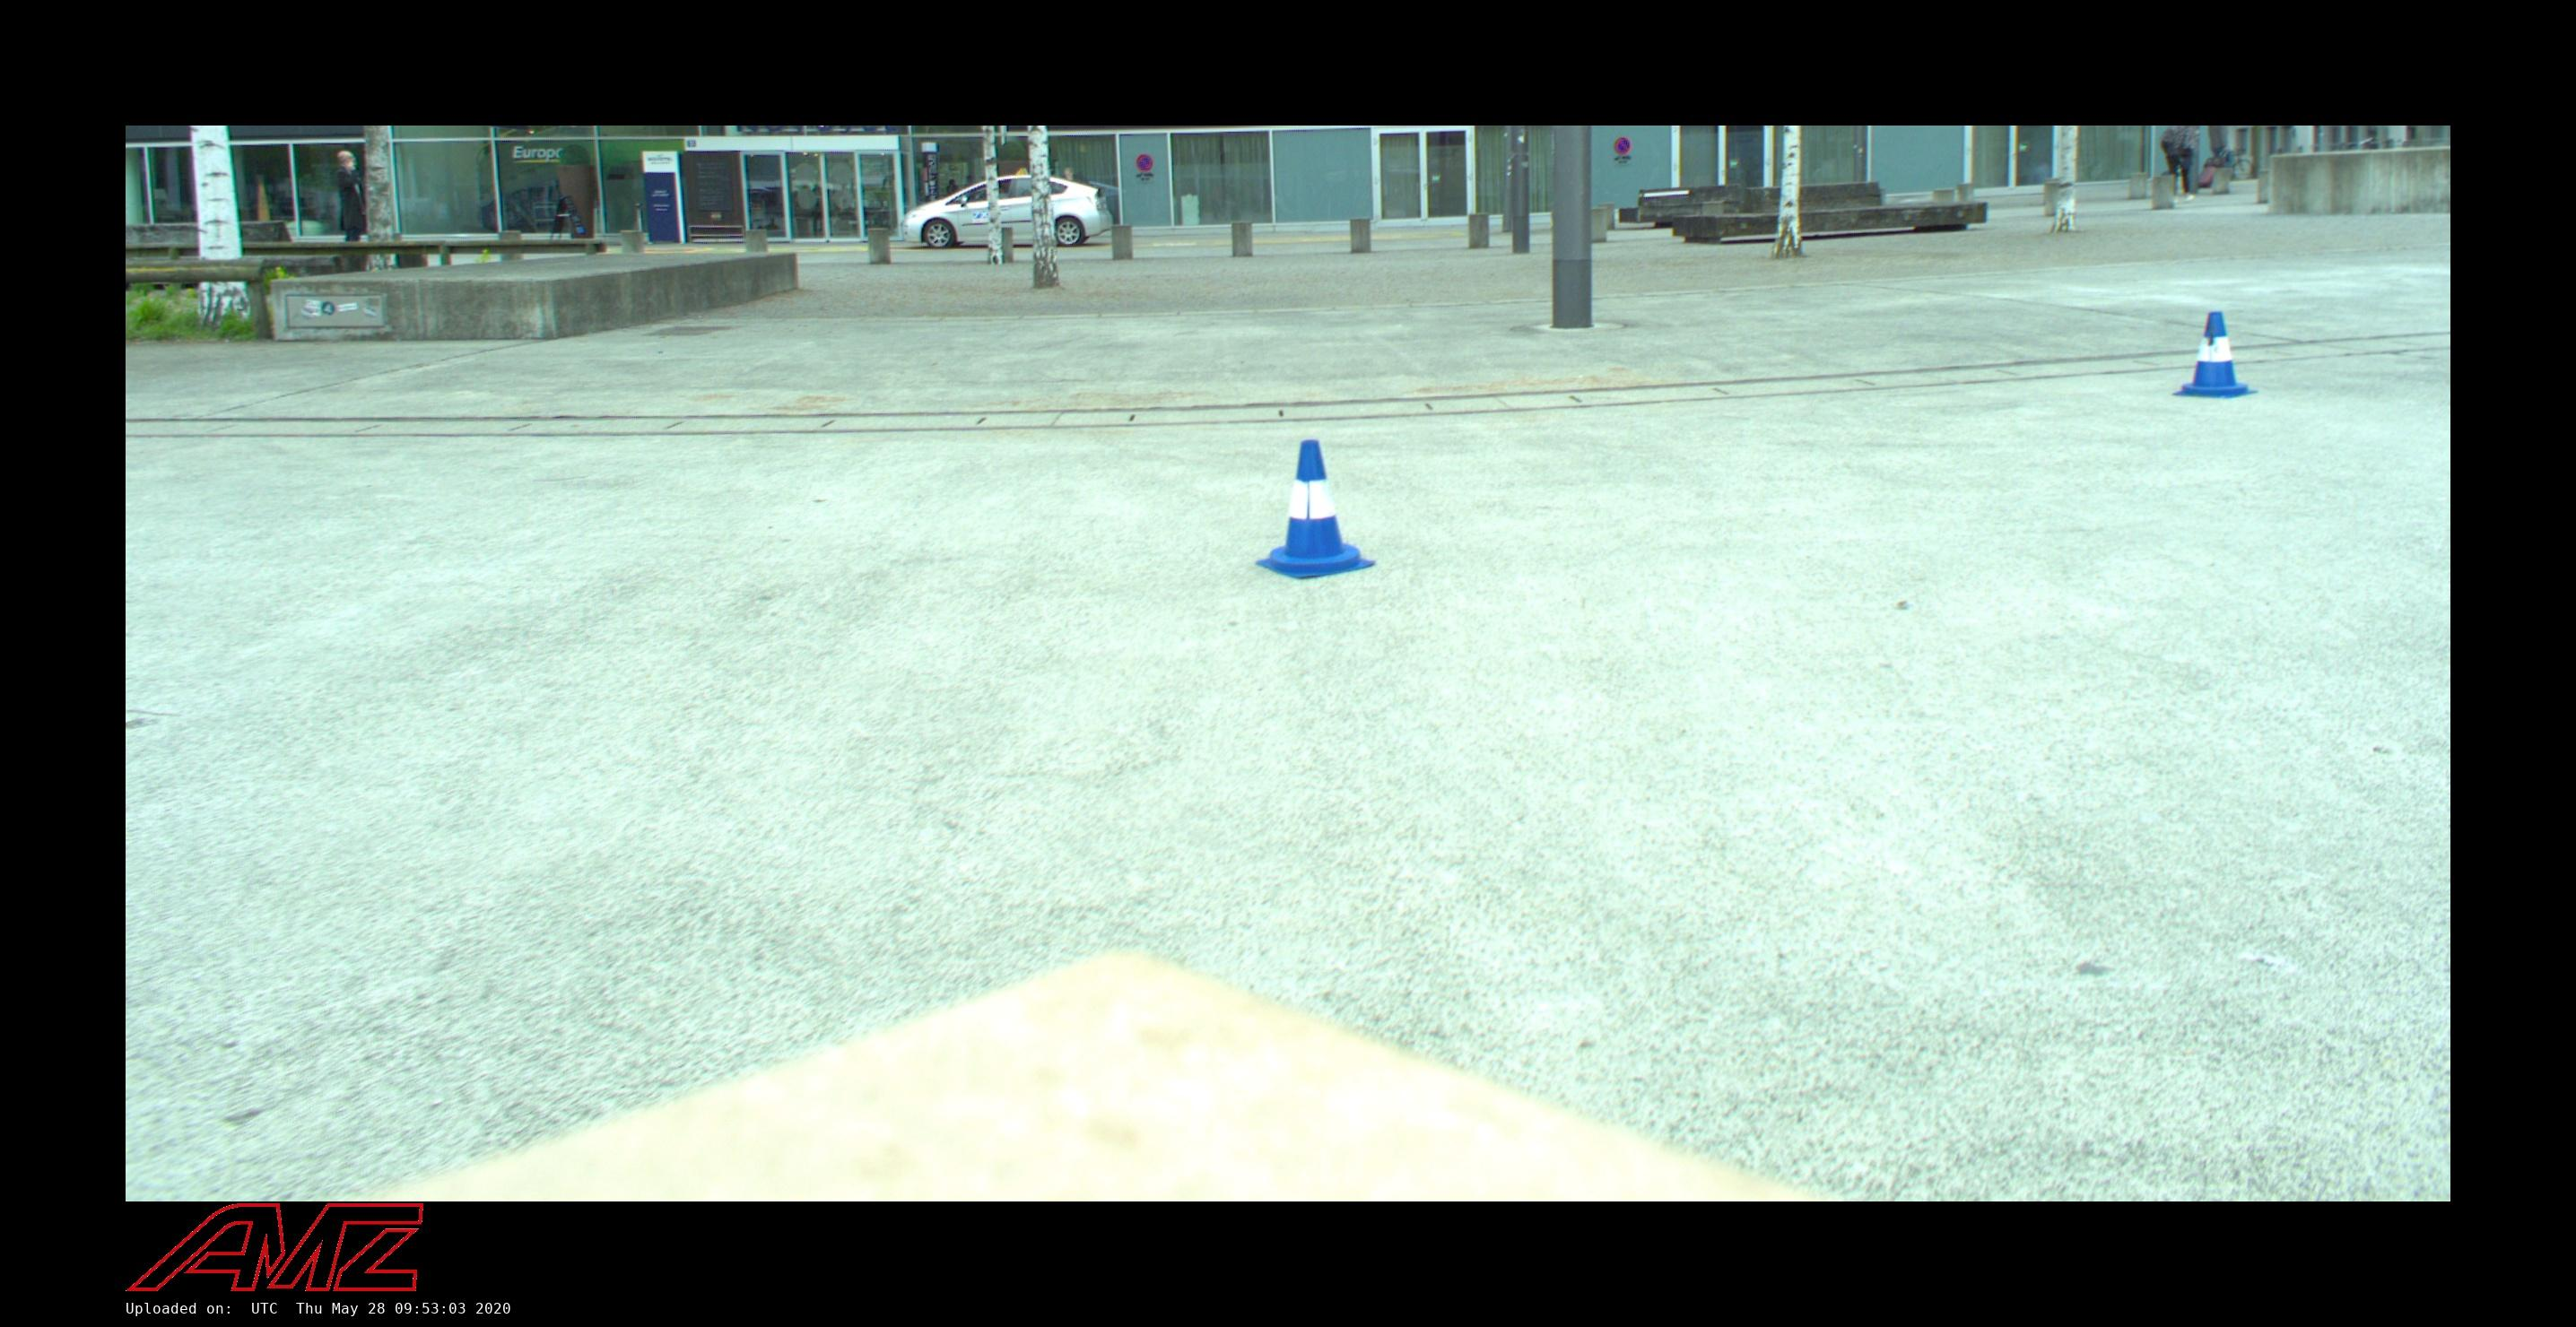blue_cone: (1250, 438, 1379, 580), (2171, 312, 2259, 399)
